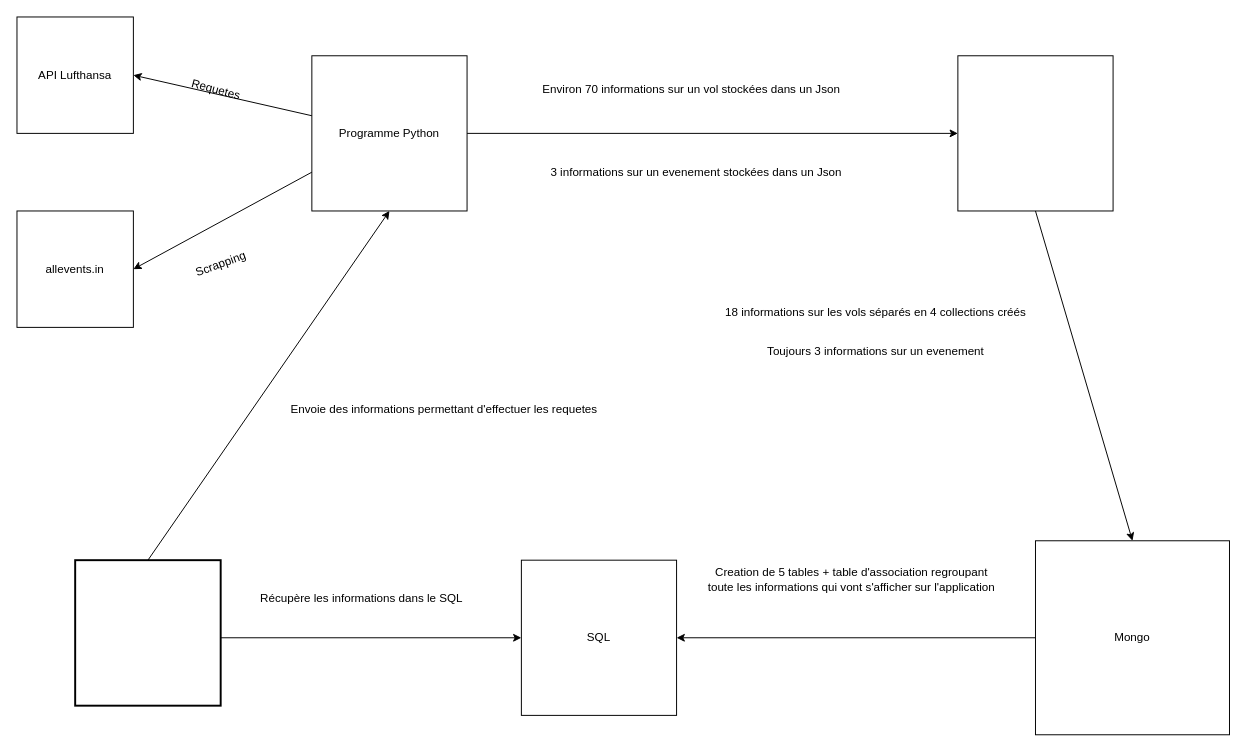
Image size: 1246x752. Some labels were removed from this diagram. Here are the shapes that lost their labels. From the top down, the centre of each, then its label:
At pixel 1035 133: "Json".
At pixel 147 632: "Dash".
